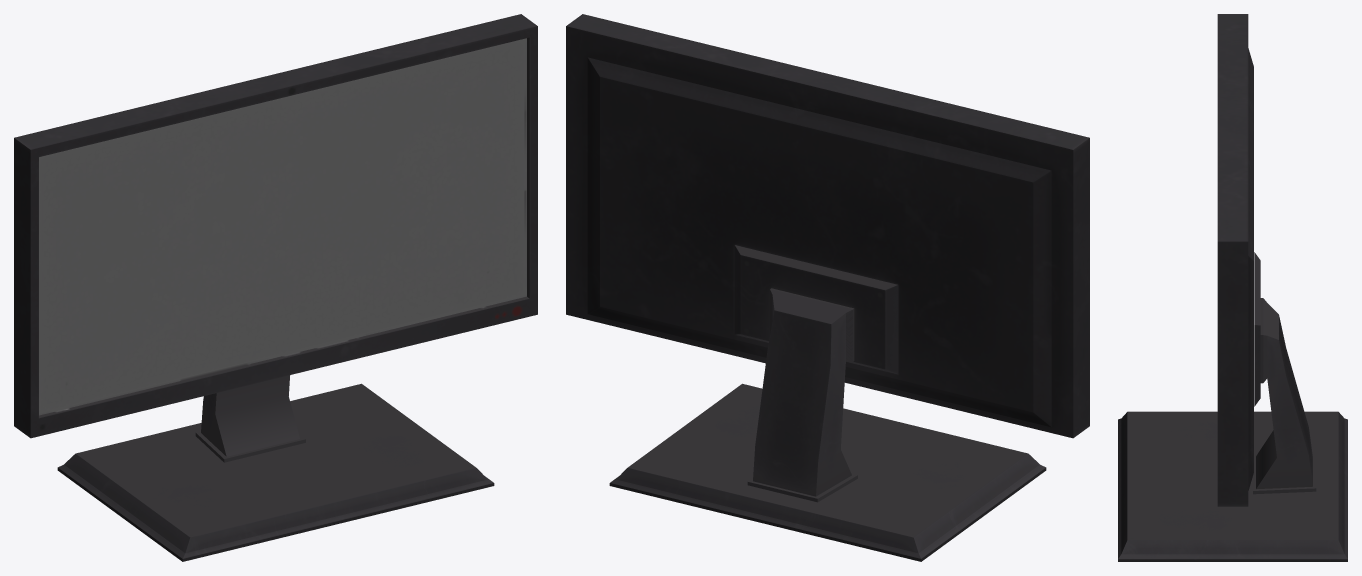
The model's file is SM_Monitor.fbx.
3 renders of one model, left to right at view 1: azimuth 30°, elevation 25°; view 2: azimuth 150°, elevation 25°; view 3: azimuth 270°, elevation 25°, orthographic. The views are drawn at different scales.
Parts seen in each view (by area): view 1: Monitor; view 2: Monitor; view 3: Monitor.
Boxes of the visible parts, left/top/right/bottom form: Monitor: left=14, top=14, right=537, bottom=561; Monitor: left=566, top=14, right=1089, bottom=561; Monitor: left=1118, top=14, right=1347, bottom=561.
Size of the model in its own units: 98.99 by 73.9 by 42.23.
